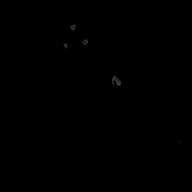v: (60, 21, 88, 49)
